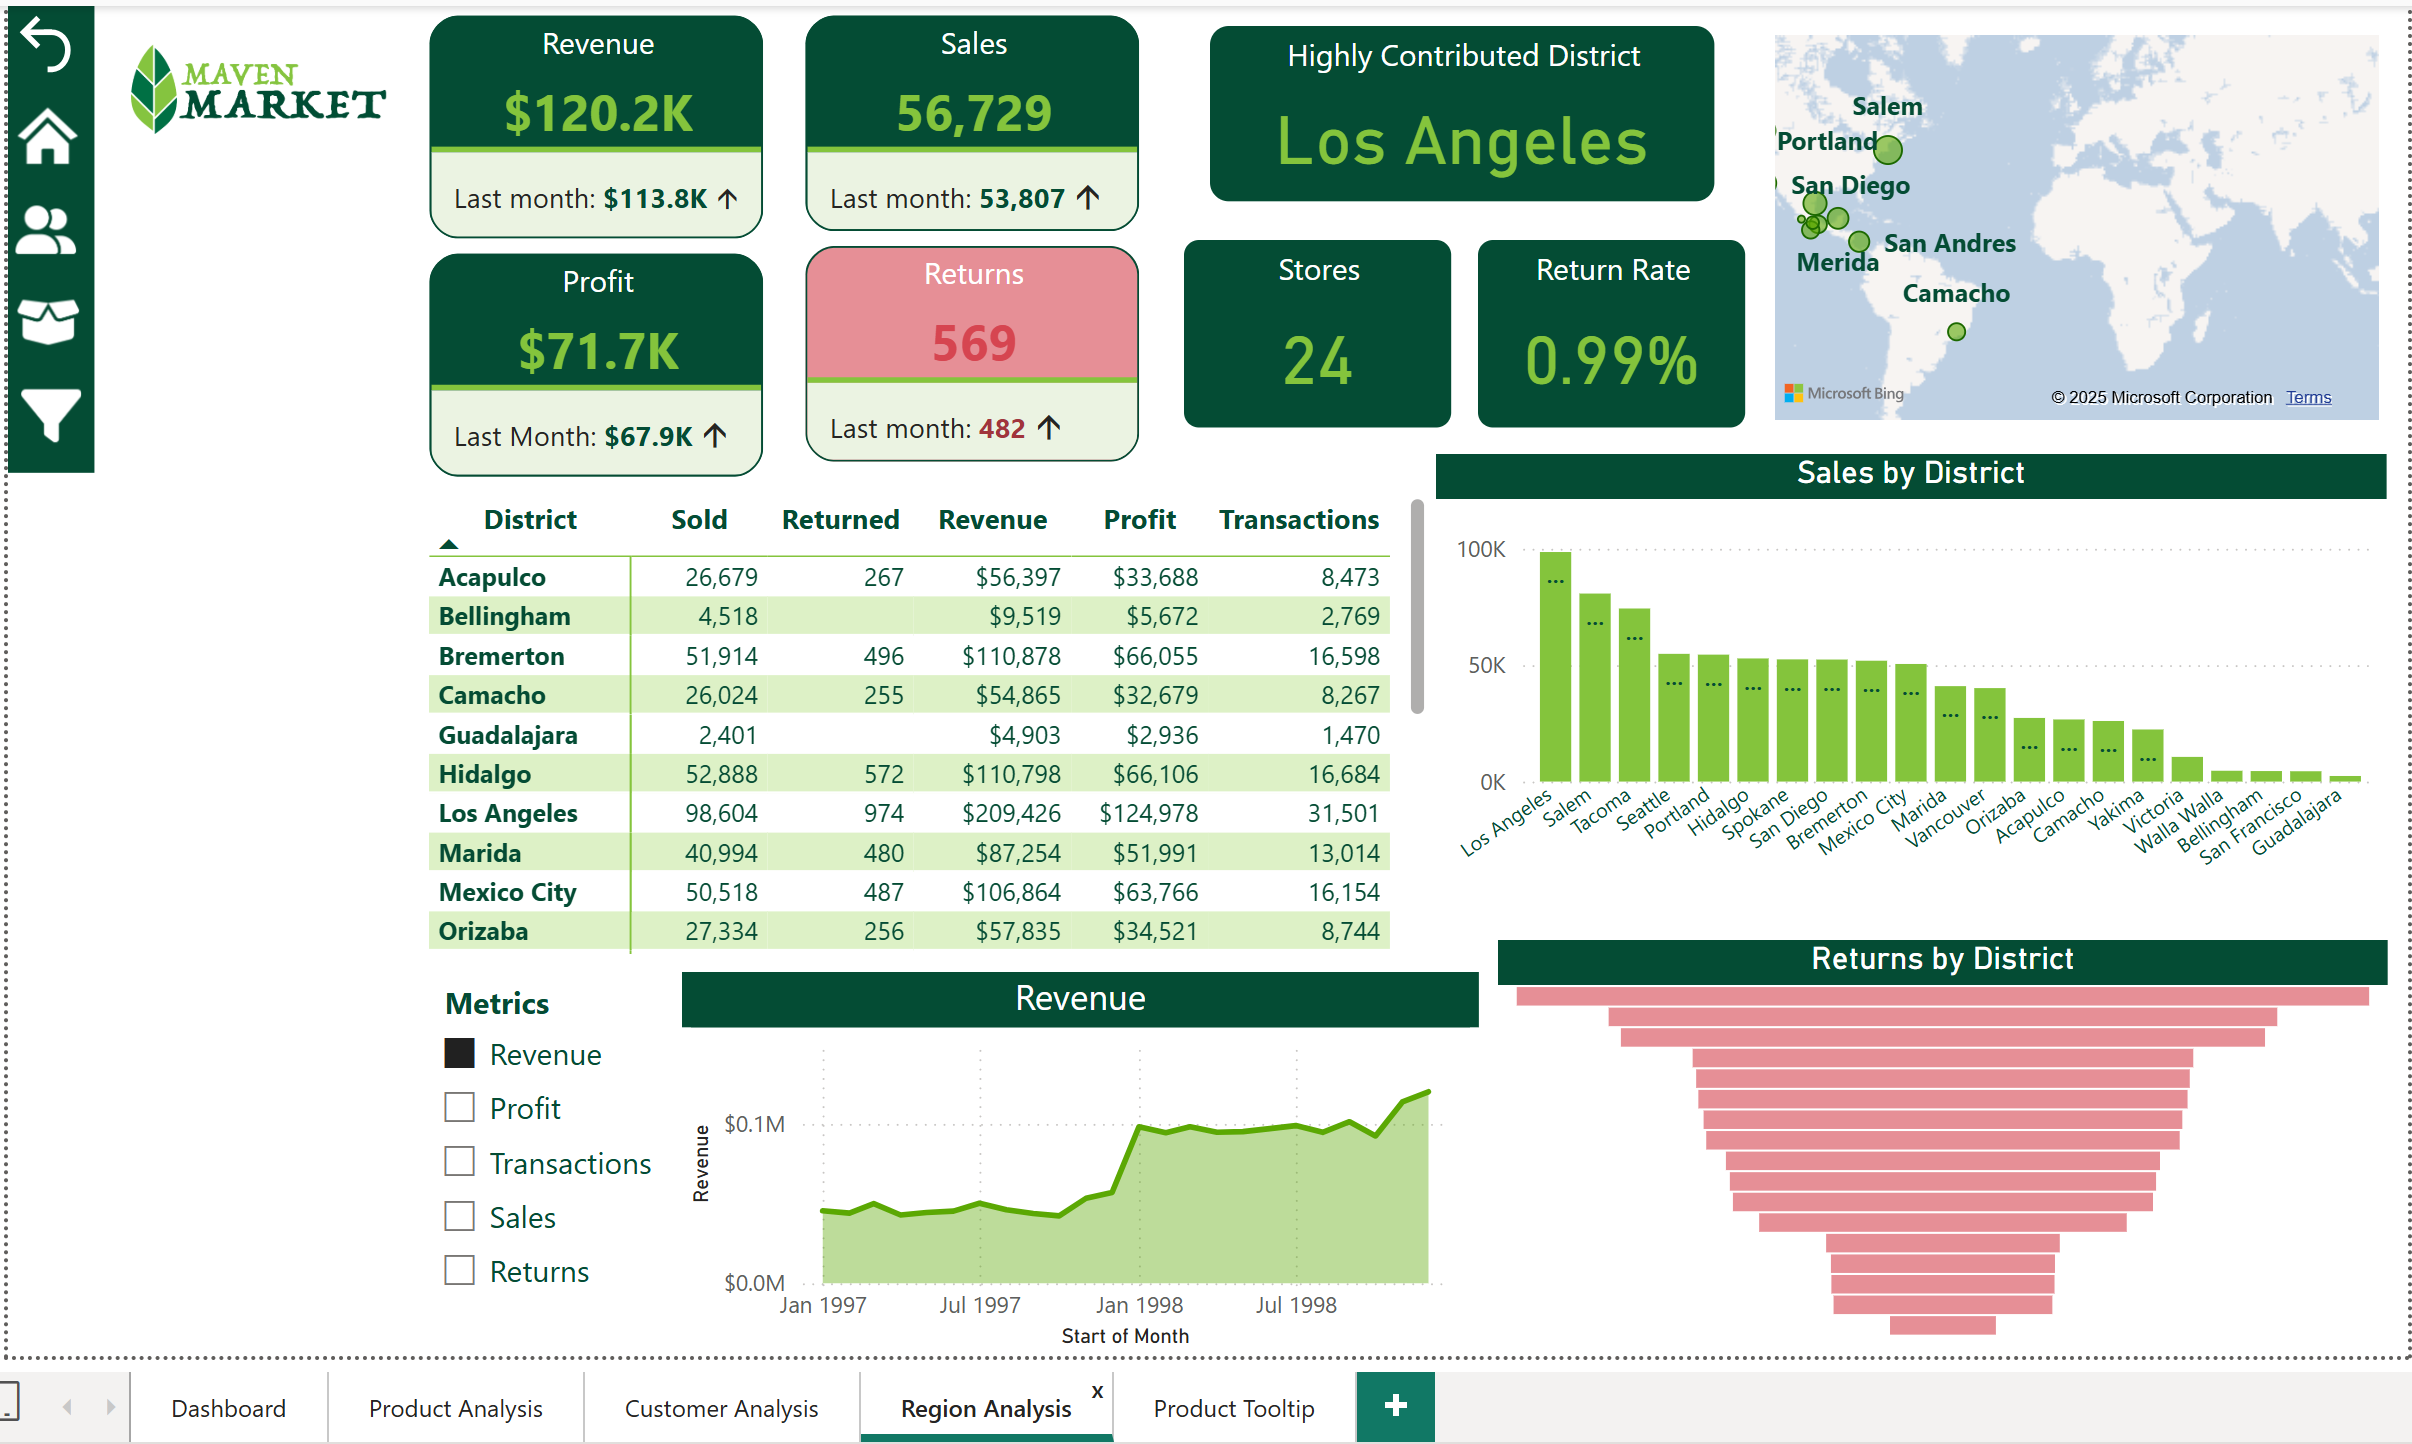

The page's visual inventory and layout, read from the dashboard file:
{"tool":"powerbi","page":{"name":"Region Analysis","canvas":[1280,720],"ordinal":3},"visuals":[{"type":"image","box":[57,9,153.2,71.4],"z":0,"group":"g1"},{"type":"funnel","title":"Returns by District","fields":{"Category":["Regions.sales_district"],"Y":["Sum(Returns.quantity)"]},"box":[794.9,497.7,474.6,216.6],"z":0},{"type":"areaChart","fields":{"Y":["Measure Table.Total Revenue"],"Category":["Calendar.Start of Month"]},"box":[359.4,514.9,425.1,205.1],"z":1000},{"type":"slicer","fields":{"Values":["Parameter.Parameter"]},"box":[220,514.9,132.5,191.2],"z":2000},{"type":"pivotTable","fields":{"Values":["Measure Table.Total Quantity Sold","Measure Table.Total Quantity Returned","Measure Table.Total Revenue","Measure Table.Total Profit","Measure Table.Total Transactions"],"Rows":["Regions.sales_district"]},"box":[220,256.9,541.4,253.4],"z":3000},{"type":"clusteredColumnChart","title":"Sales by District","fields":{"Y":["Sum(Transactions.quantity)"],"Category":["Regions.sales_district"]},"box":[761.5,238.5,506.9,232.7],"z":4000},{"type":"map","fields":{"Size":["Measure Table.Total Revenue"],"Category":["Stores.store_city"]},"box":[937.7,10.4,331.8,215.4],"z":5000},{"type":"shape","box":[0,0,46.1,248.8],"z":6000},{"type":"actionButton","box":[0,0,44.9,40.3],"z":7000},{"type":"actionButton","box":[1.2,49.4,44.9,40.3],"z":8000},{"type":"actionButton","box":[0,198.1,46.1,40.3],"z":9000},{"type":"card","title":"Highly Contributed District","fields":{"Values":["Min(Regions.sales_district)"]},"box":[640.7,10.5,268.9,93.6],"z":10000},{"type":"cardVisual","title":"Revenue","fields":{"Data":["Measure Table.Total Revenue","Measure Table.Total Profit"]},"box":[220,0,188.9,256.9],"z":11000},{"type":"cardVisual","title":"Revenue","fields":{"Data":["Measure Table.Total Quantity Sold","Measure Table.Total Quantity Returned"]},"box":[420.5,0,188.9,248.8],"z":12000},{"type":"card","title":"Stores","fields":{"Values":["CountNonNull(Stores.store_id)"]},"box":[627.5,125.2,142.4,100.2],"z":13000},{"type":"card","title":"Return Rate","fields":{"Values":["Measure Table.Return Rate"]},"box":[784.3,125.2,142.4,100.2],"z":14000},{"type":"group","id":"g1","title":"Logo","box":[57,9,153.2,71.4],"z":15000},{"type":"actionButton","box":[0,98.8,40.3,40.3],"z":17000},{"type":"actionButton","box":[1.3,148.2,40.9,40.9],"z":18000}]}

Visuals, with their boxes on the page's 1280x720 design canvas (x1, y1, x2, y2). These are canvas units, not pixel positions in the 2412x1444 screenshot, which may show the page scaled, cropped or inside an application window:
image: crop(57, 9, 210, 80)
"Returns by District" funnel: crop(795, 498, 1270, 714)
areaChart - Measure Table.Total Revenue x Calendar.Start of Month: crop(359, 515, 784, 720)
slicer - Parameter.Parameter: crop(220, 515, 352, 706)
pivotTable - Measure Table.Total Quantity Sold x Measure Table.Total Quantity Returned: crop(220, 257, 761, 510)
"Sales by District" clusteredColumnChart: crop(762, 238, 1268, 471)
map - Measure Table.Total Revenue x Stores.store_city: crop(938, 10, 1270, 226)
shape: crop(0, 0, 46, 249)
actionButton: crop(0, 0, 45, 40)
actionButton: crop(1, 49, 46, 90)
actionButton: crop(0, 198, 46, 238)
"Highly Contributed District" card: crop(641, 10, 910, 104)
"Revenue" cardVisual: crop(220, 0, 409, 257)
"Revenue" cardVisual: crop(420, 0, 609, 249)
"Stores" card: crop(628, 125, 770, 225)
"Return Rate" card: crop(784, 125, 927, 225)
"Logo" group: crop(57, 9, 210, 80)
actionButton: crop(0, 99, 40, 139)
actionButton: crop(1, 148, 42, 189)
